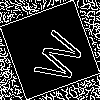W: (25, 25, 86, 87)
